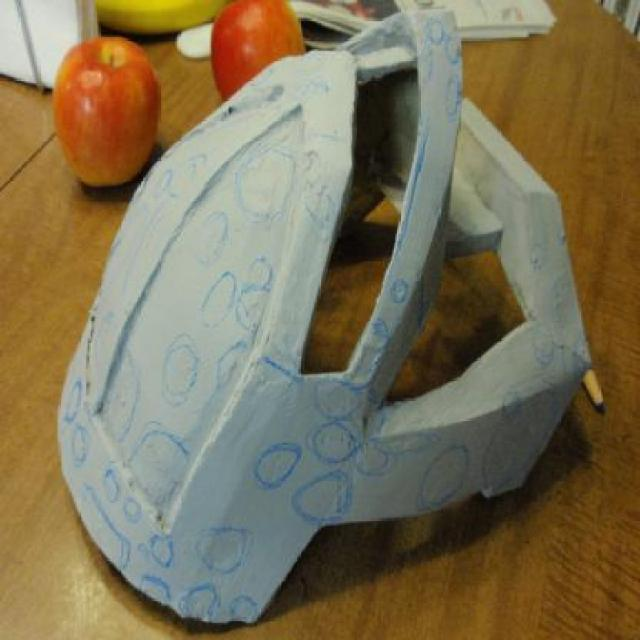Apple pie: (51, 31, 160, 187), (212, 0, 303, 103)
